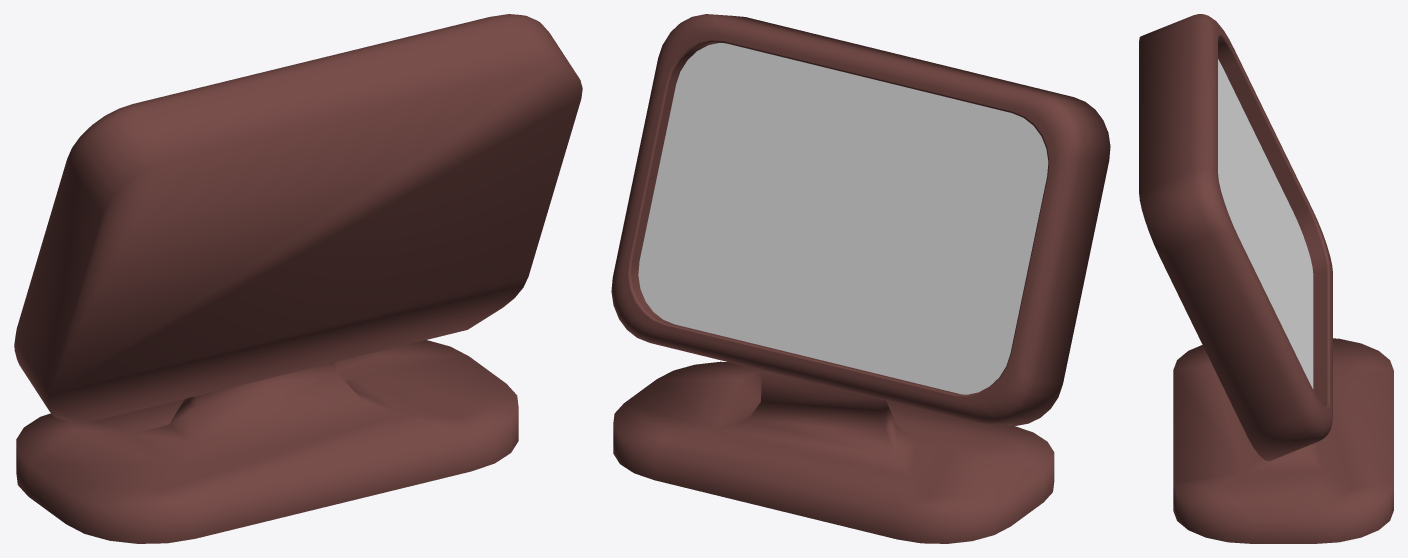
Rendered from Display_Commands.fbx.
3 views of the same model, side by side, from view 1: azimuth 30°, elevation 25°; view 2: azimuth 150°, elevation 25°; view 3: azimuth 270°, elevation 25° (orthographic). The views are drawn at different scales.
Visible parts, largest first — view 1: Display_Commands; view 2: Display_Commands; view 3: Display_Commands.
Boxes of the visible parts, x1=… form: Display_Commands: x1=14, y1=14, x2=582, y2=543; Display_Commands: x1=611, y1=14, x2=1110, y2=543; Display_Commands: x1=1139, y1=14, x2=1393, y2=543.
Bounding box in the file's own units: 5.76 × 3.18 × 4.95.
